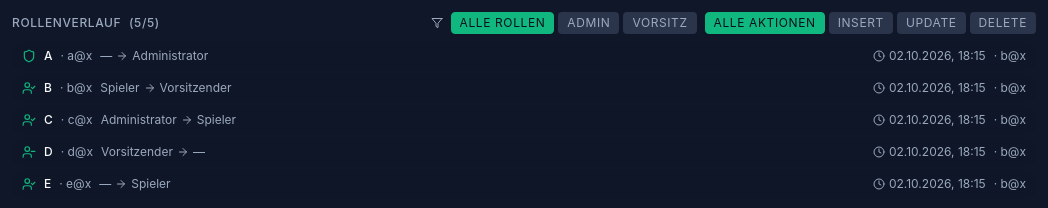
Test case: ClubRoleHistory – Rollenfilter › filtert "chairman" korrekt und schließt admin-only Einträge aus
Expected: the text "(5/5)" is shown, [129, 15, 160, 30]
Step 1. Click the button "Vorsitz" → (660, 23), box [623, 12, 697, 34]
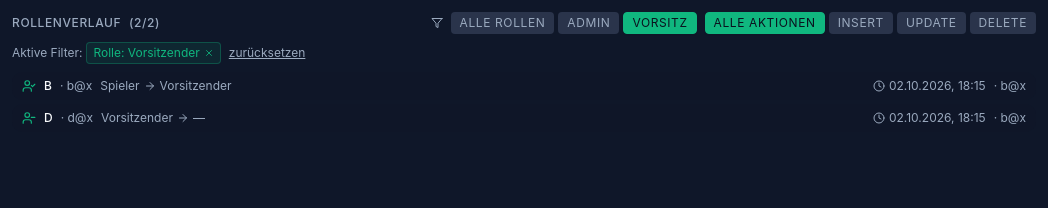
Expected: the text "(2/2)" is shown, [129, 15, 160, 30]
